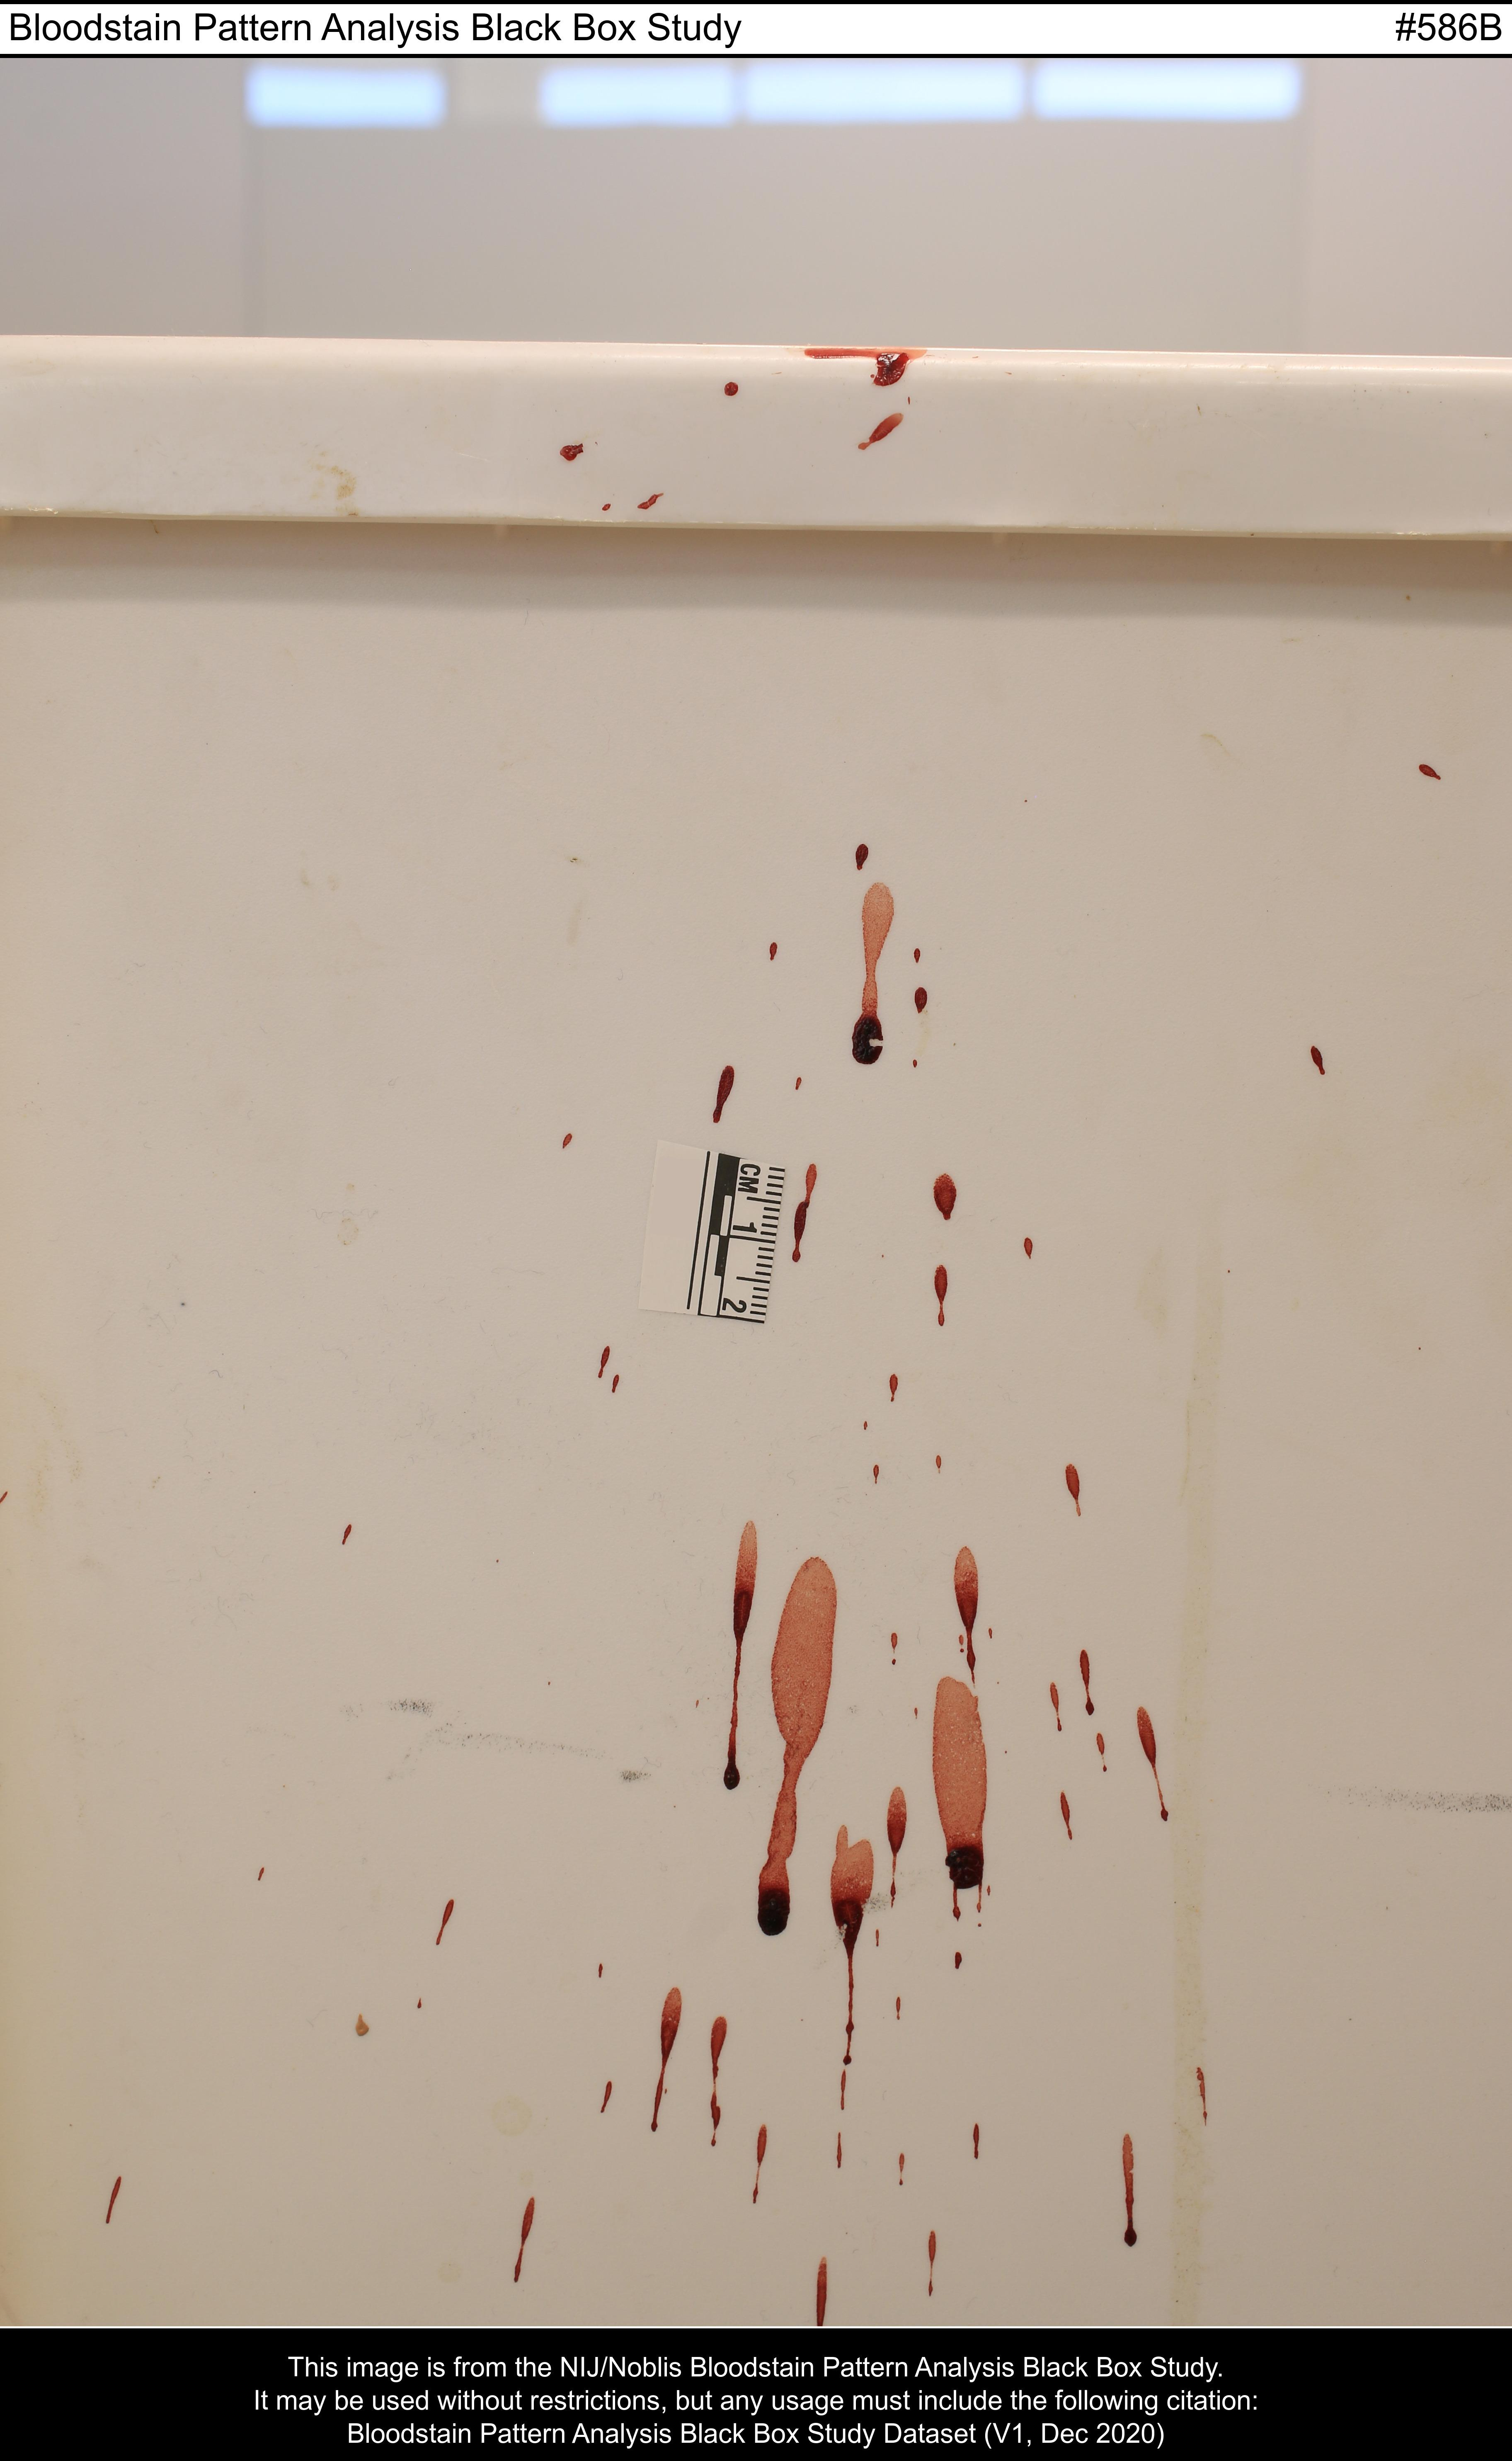Impact: (25, 336, 1512, 2326)
